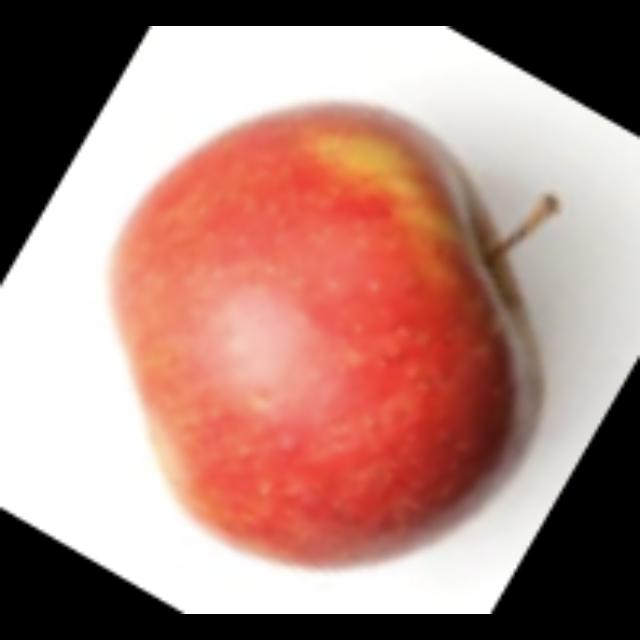Apel Segar: (99, 98, 545, 583)
